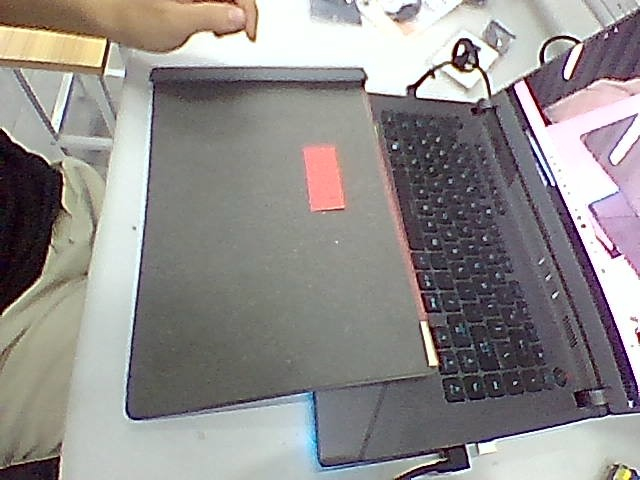card: (303, 147, 345, 209)
